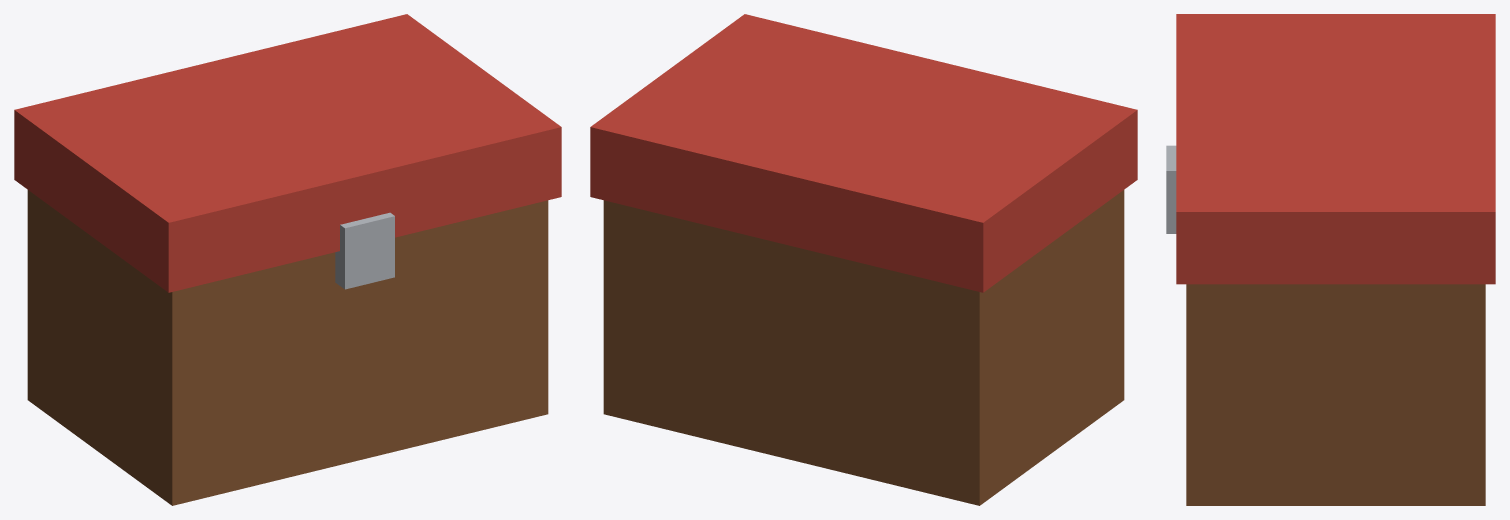
File: chest.glb
3 renders of one model, left to right at view 1: azimuth 30°, elevation 25°; view 2: azimuth 150°, elevation 25°; view 3: azimuth 270°, elevation 25°, orthographic. The views are drawn at different scales.
Parts seen in each view (by area): view 1: chest; view 2: chest; view 3: chest.
Boxes of the visible parts, x1,y1,x2,y2 form: chest: [14, 14, 561, 505]; chest: [590, 14, 1137, 505]; chest: [1166, 14, 1495, 505].
Size of the model in its own units: 0.94 by 0.66 by 0.66.
